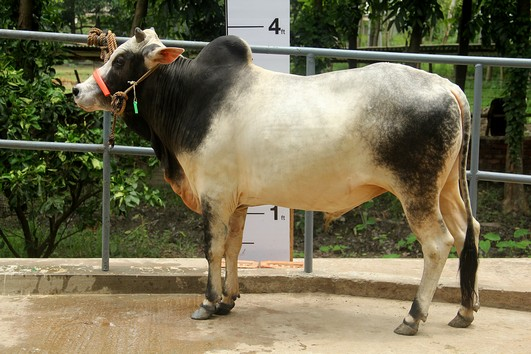cow: (63, 24, 491, 339)
